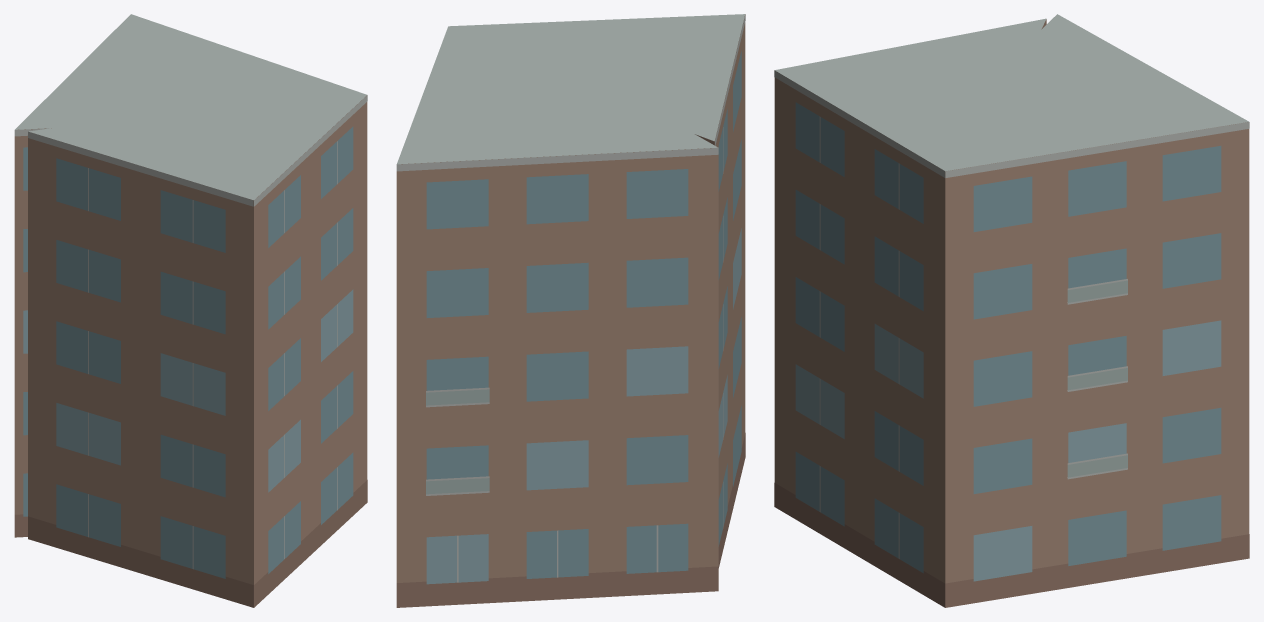
The model's file is survey-upis-32862263.glb.
3 renders of one model, left to right at view 1: azimuth 30°, elevation 25°; view 2: azimuth 150°, elevation 25°; view 3: azimuth 270°, elevation 25°, orthographic. The views are drawn at different scales.
Parts seen in each view (by area): view 1: survey-upis-32862263.tmp; view 2: survey-upis-32862263.tmp; view 3: survey-upis-32862263.tmp.
Boxes of the visible parts, x1,y1,x2,y2 form: survey-upis-32862263.tmp: (14, 14, 367, 607); survey-upis-32862263.tmp: (396, 14, 745, 607); survey-upis-32862263.tmp: (774, 14, 1249, 607).
Bounding box in the file's own units: 11.78 × 15.25 × 15.04.
